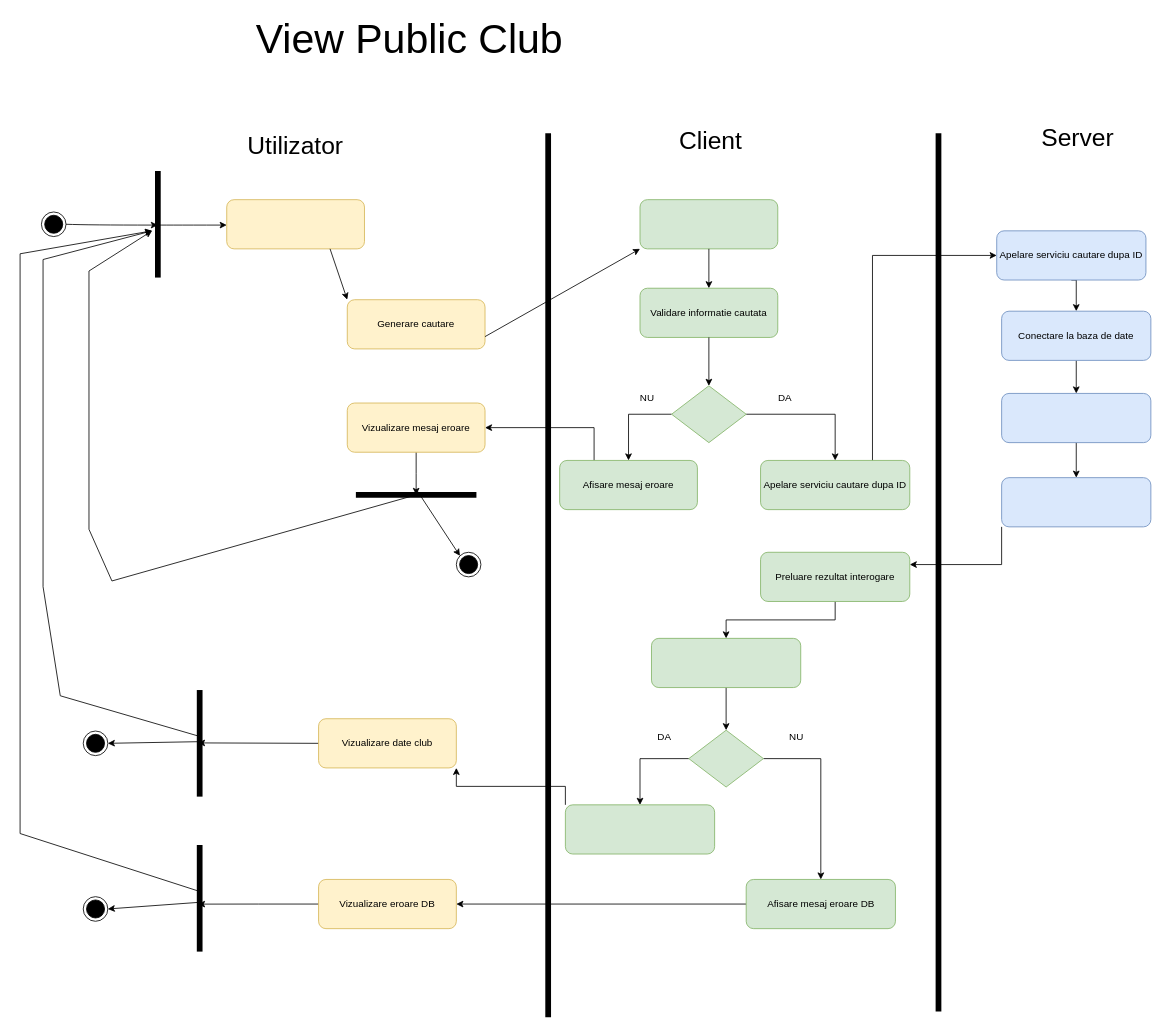
Image size: 1165x1035. Some labels were removed from this diagram. The box of each missing label's shape, as (x1, y1, x2, y2) in pixels:
Analiza rezultat: (651, 638, 801, 688)
Deconectarea de la baza de date: (1001, 477, 1151, 527)
Executarea interogarii: (1001, 393, 1151, 443)
Introducere informatie cautata: (226, 199, 364, 249)
Preluarea informatie cautata: (639, 199, 778, 249)
Salvare date club: (565, 804, 715, 854)
